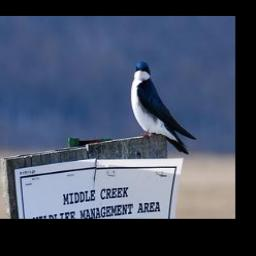Swallow: (129, 59, 195, 154)
